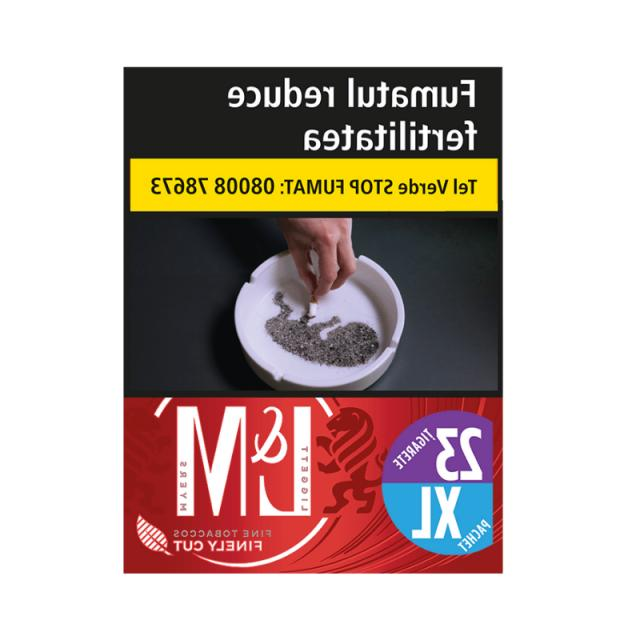lm: (119, 57, 507, 577)
